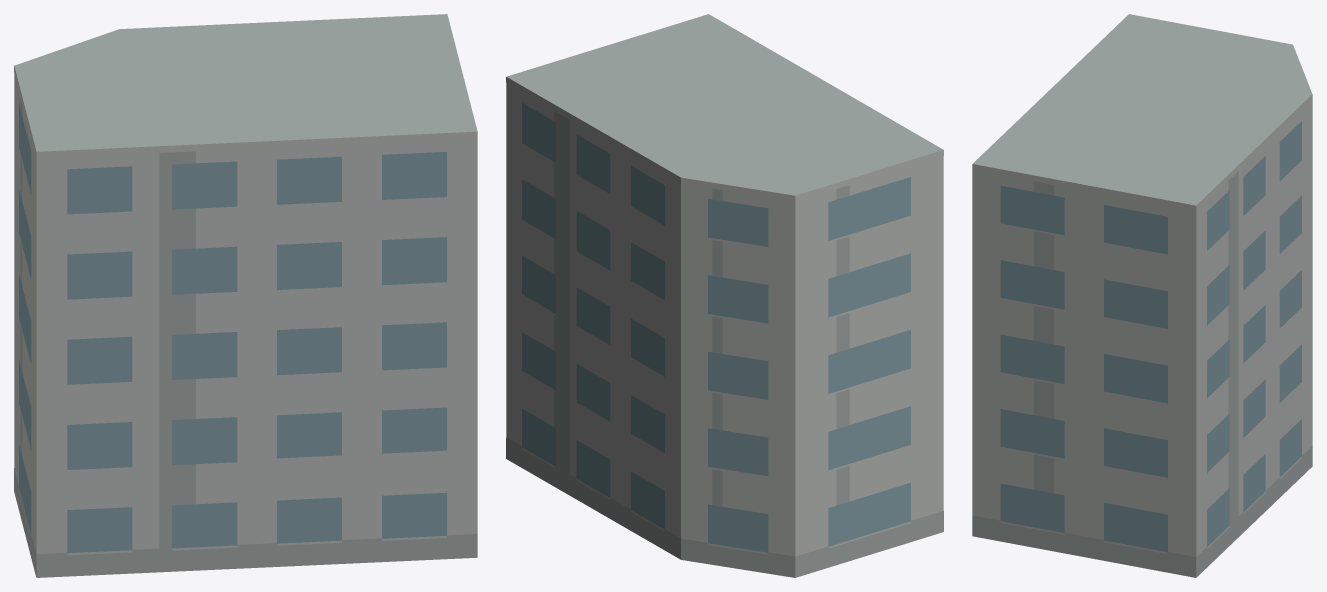
File: residential-d681753f-4b54-48f7-bdb9-387238fd59a3.glb
The picture shows the model from 3 angles, left to right: view 1: azimuth 30°, elevation 25°; view 2: azimuth 150°, elevation 25°; view 3: azimuth 270°, elevation 25°; orthographic projection. The views are drawn at different scales.
Parts seen in each view (by area): view 1: residential-d681753f-4b54-48f7-bdb9-387238fd59a3.tmp; view 2: residential-d681753f-4b54-48f7-bdb9-387238fd59a3.tmp; view 3: residential-d681753f-4b54-48f7-bdb9-387238fd59a3.tmp.
Boxes of the visible parts, x1,y1,x2,y2 form: residential-d681753f-4b54-48f7-bdb9-387238fd59a3.tmp: [14, 14, 477, 577]; residential-d681753f-4b54-48f7-bdb9-387238fd59a3.tmp: [506, 14, 943, 577]; residential-d681753f-4b54-48f7-bdb9-387238fd59a3.tmp: [972, 14, 1312, 577].
Size of the model in its own units: 16.84 by 15.25 by 12.64.
